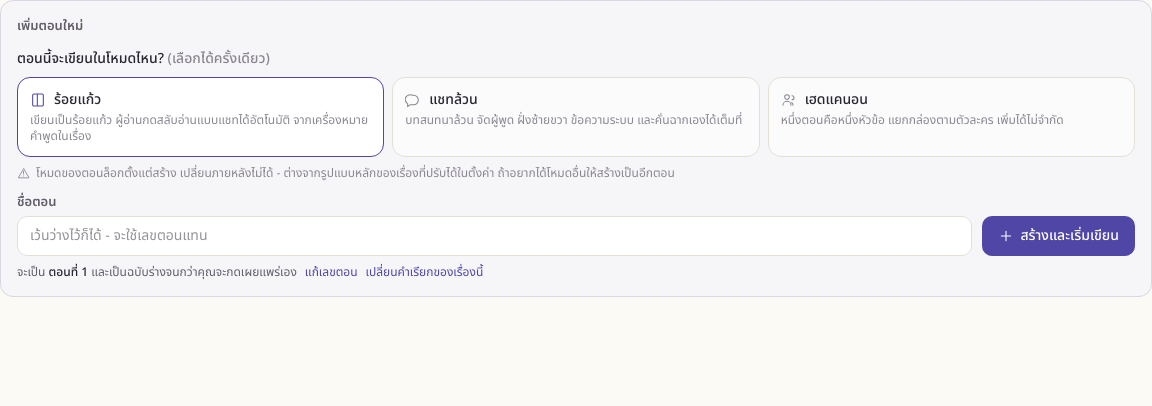
the add box (#9, #10, #11, #12) › computes the number and hides the input behind แก้เลขตอน (#9)
expect the text "ตอนที่ 1" is shown: met, box [49,263,88,281]
Click the button "แก้เลขตอน".
click(331, 272)  # box [305,264,358,280]
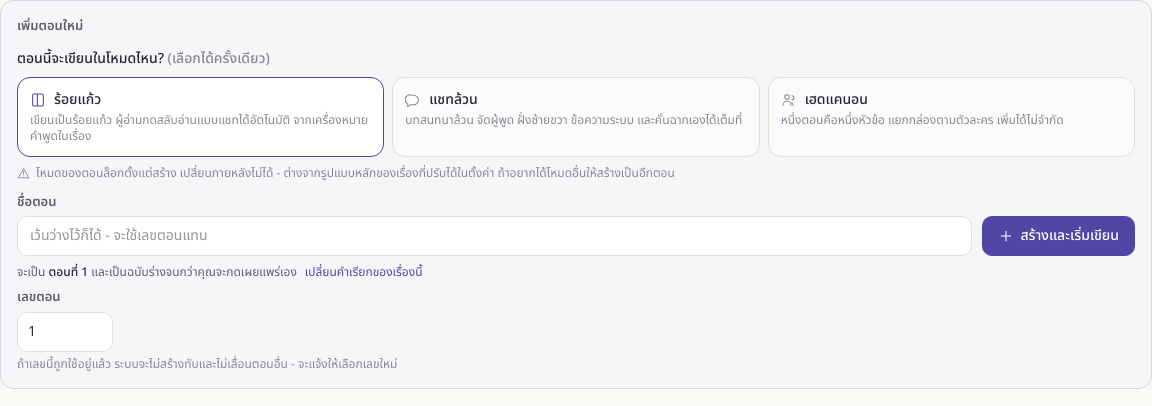
expect the number field labelled "เลขตอน" is shown: met, box [17,312,113,352]
expect the text "ระบบจะไม่สร้างทับและไม่เลื่อนตอนอื่น" is shown: met, box [17,354,397,372]
